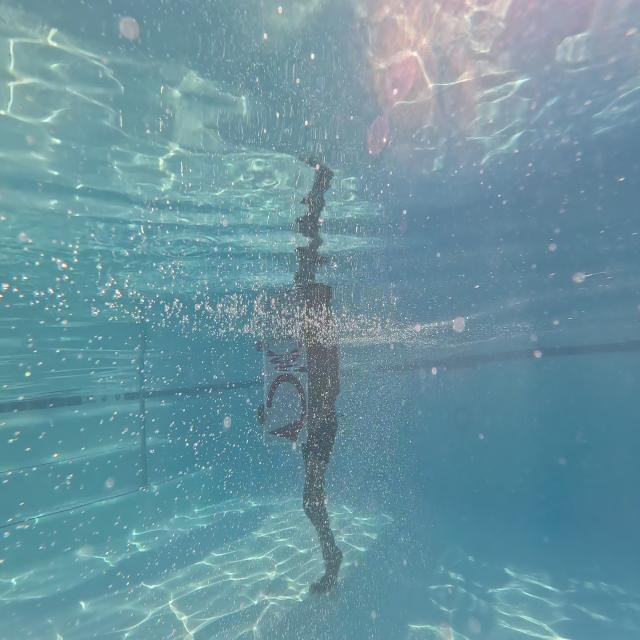red_side: (267, 364, 310, 446)
